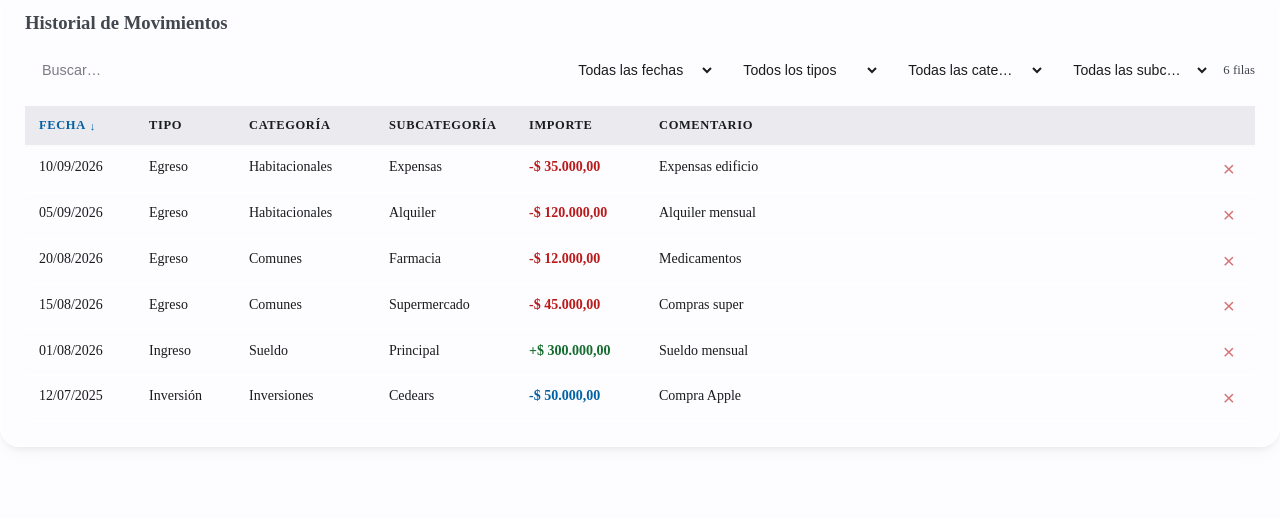
TransactionsList Tree-Cascading & Date Range Filters › Date Range Filter & Presets › filters rows correctly using custom date range inputs
Select "📆 Personalizado (Rango)..." in the dropdown named "filtrar por fecha": (639,70) [561, 50, 716, 90]
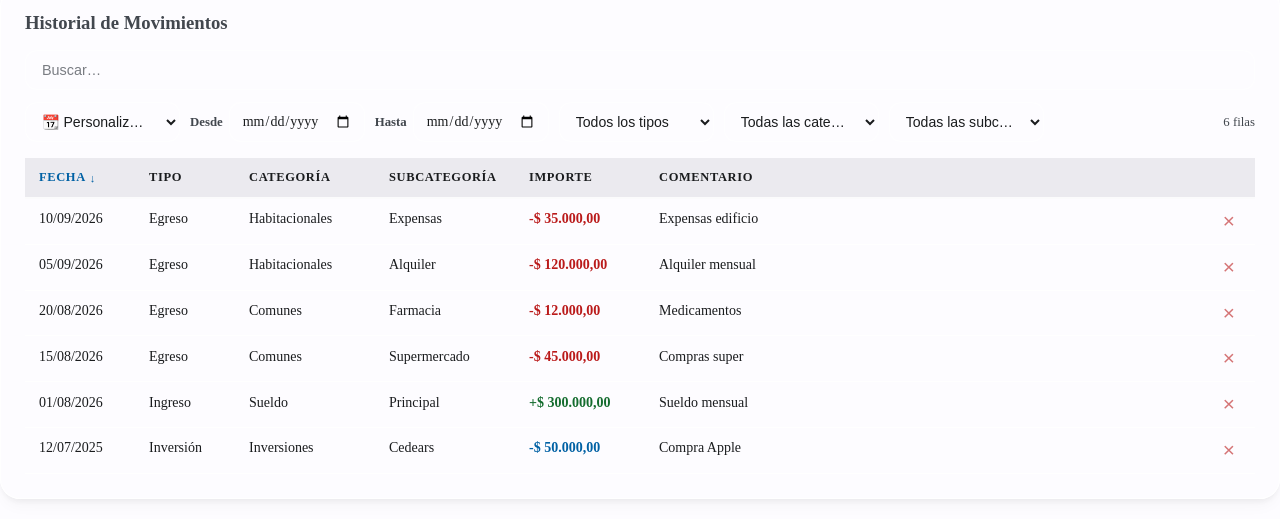
Filter between 01/08/2026 and 31/08/2026 (August 2026 transactions: tx-3, tx-4, tx-5)
In the date field named "fecha desde": (297,122) [229, 102, 365, 142], type "2026-08-01"
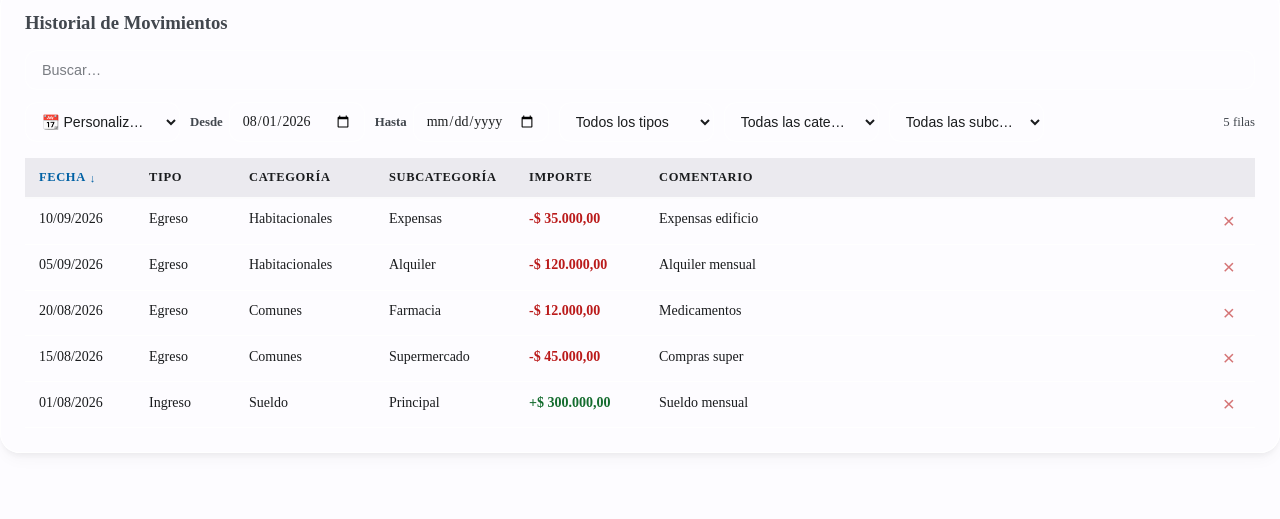
In the date field named "fecha hasta": (481,122) [413, 102, 549, 142], type "2026-08-31"
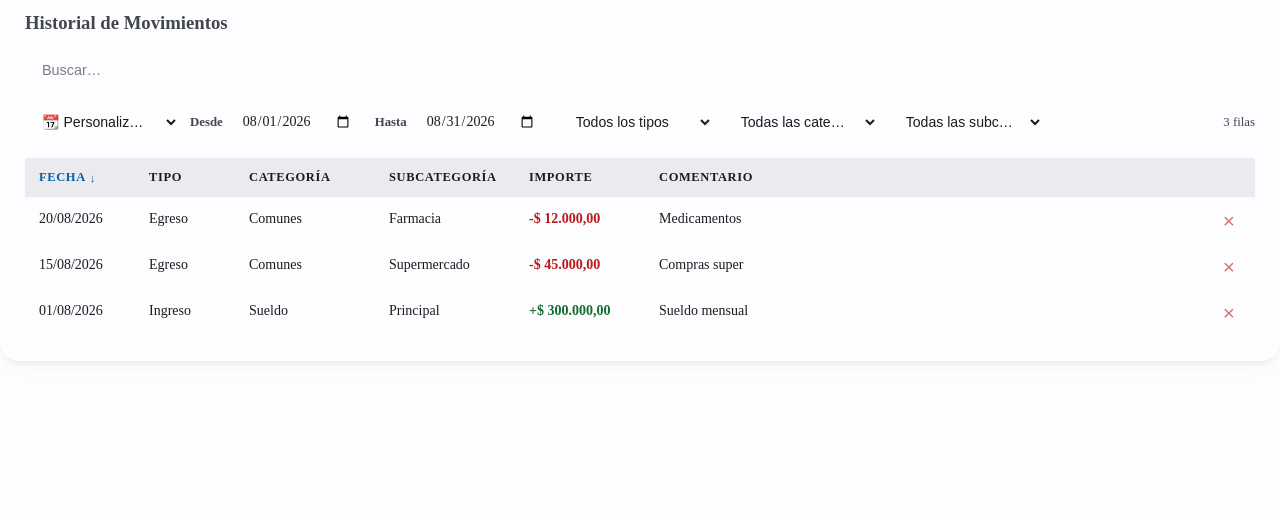
Check: the text "Compras super" is shown, box [659, 257, 743, 277]
Check: the text "Alquiler mensual" is gone
Check: the text "Expensas edificio" is gone
